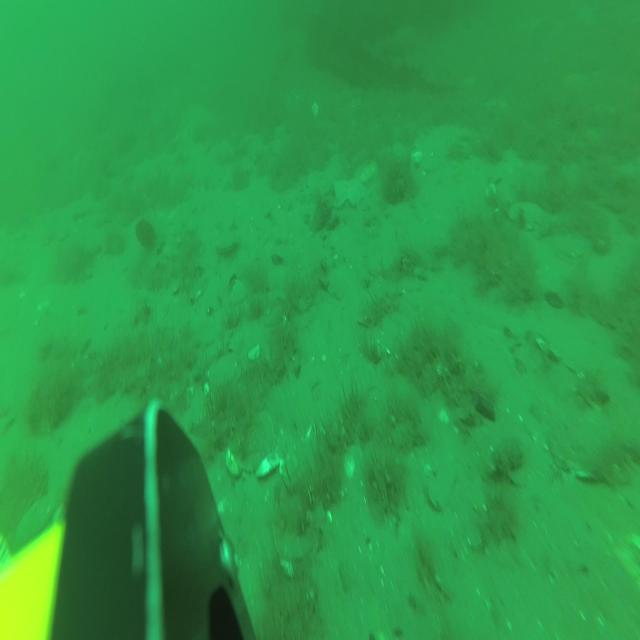scallop: (224, 412, 276, 477), (208, 354, 240, 395), (508, 196, 545, 228), (218, 229, 240, 254), (358, 162, 377, 186), (311, 100, 319, 118)
starfish: (332, 176, 368, 208)
